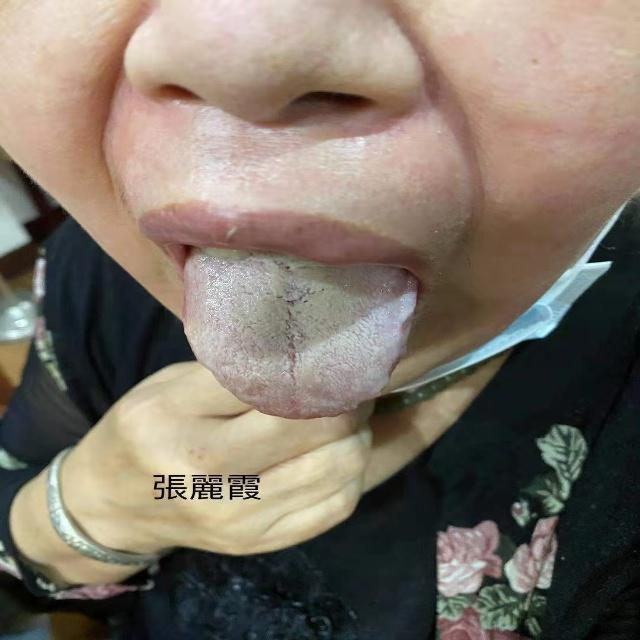baitaishe: (182, 260, 418, 420)
chihenshe: (353, 307, 415, 410)
